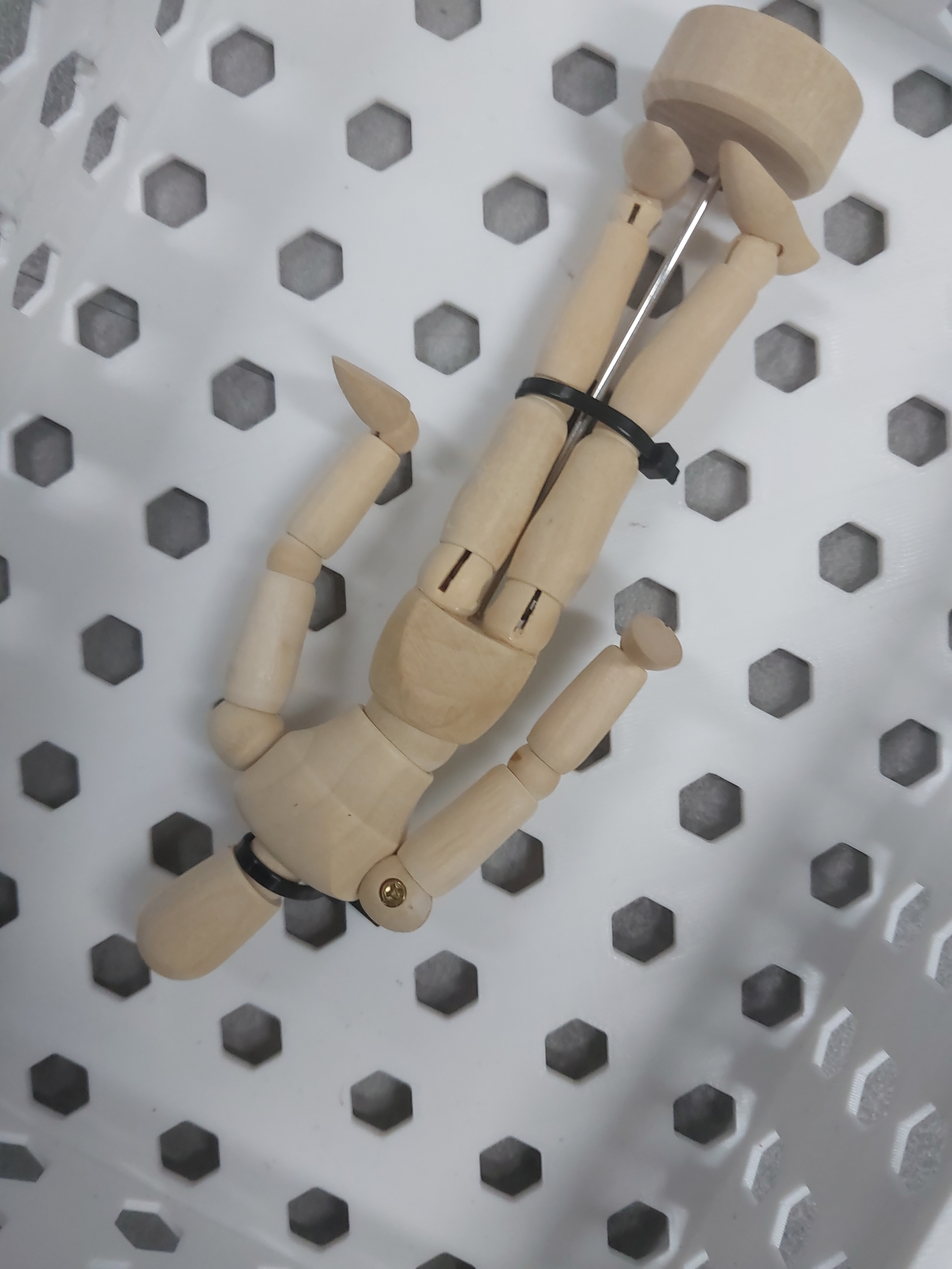mannequin: (128, 0, 871, 996)
